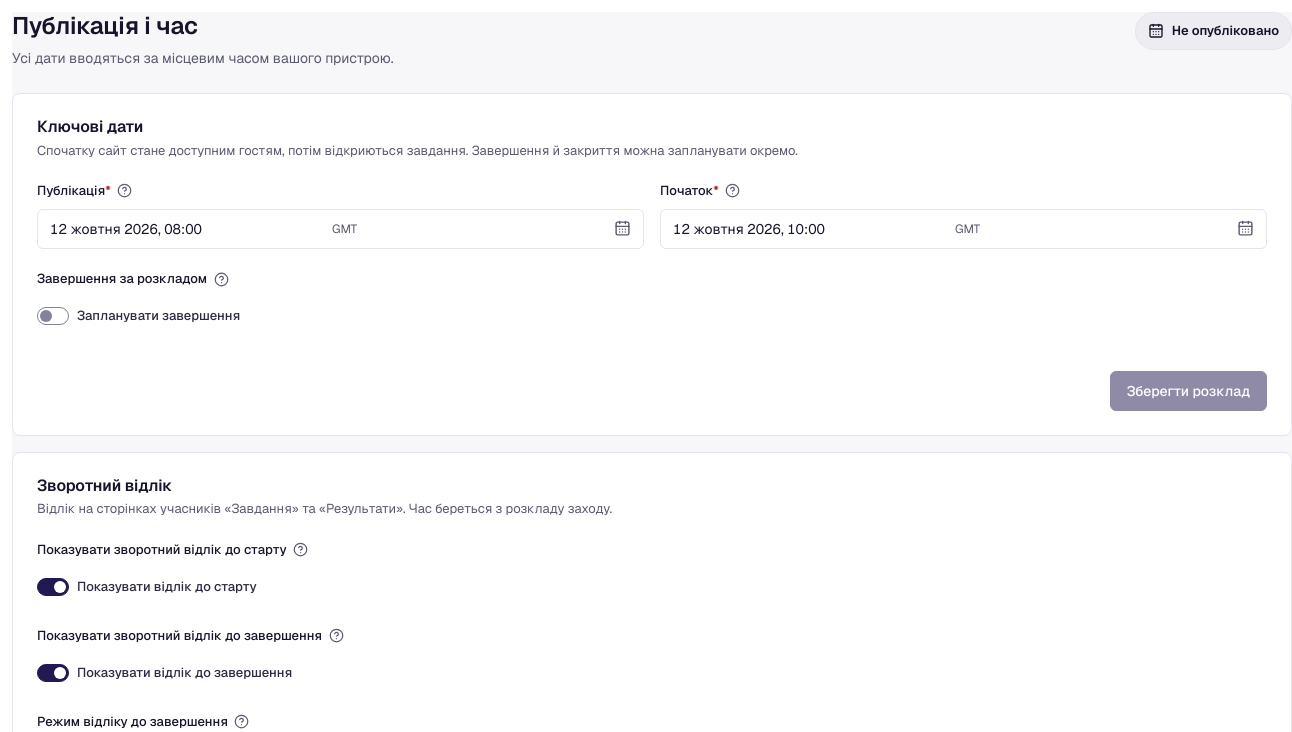
Test case: event schedule › requires a finish when scheduled ending is enabled, without requiring closing
The image size is (1292, 732).
Click the switch labelled "Запланувати завершення": (139,316) [37, 307, 240, 325]
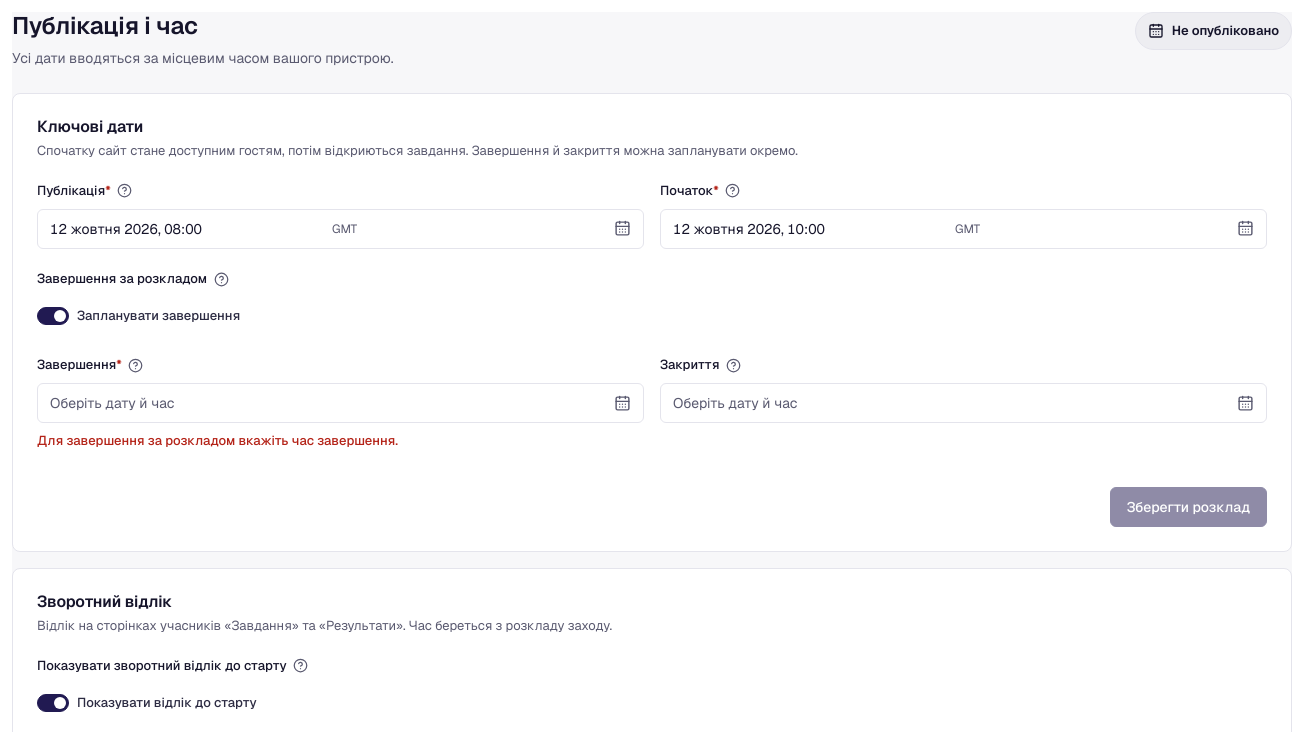
Expected: the button "Зберегти розклад" is disabled, [1110, 487, 1267, 527]
Result: the message reads "Для завершення за розкладом вкажіть час завершення." at [37, 432, 398, 449]
